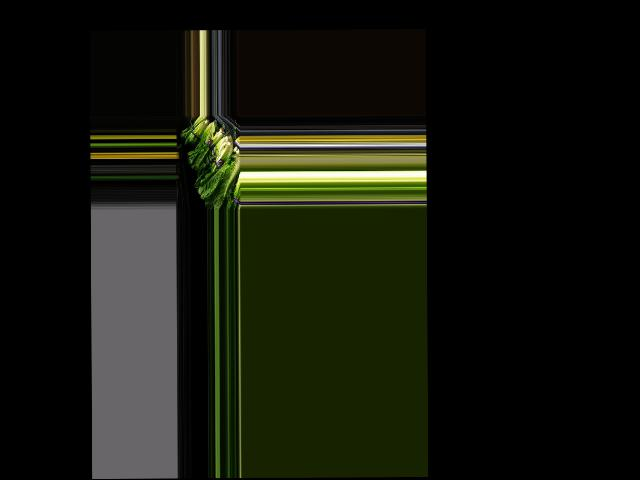lettuce: (199, 154, 238, 208)
